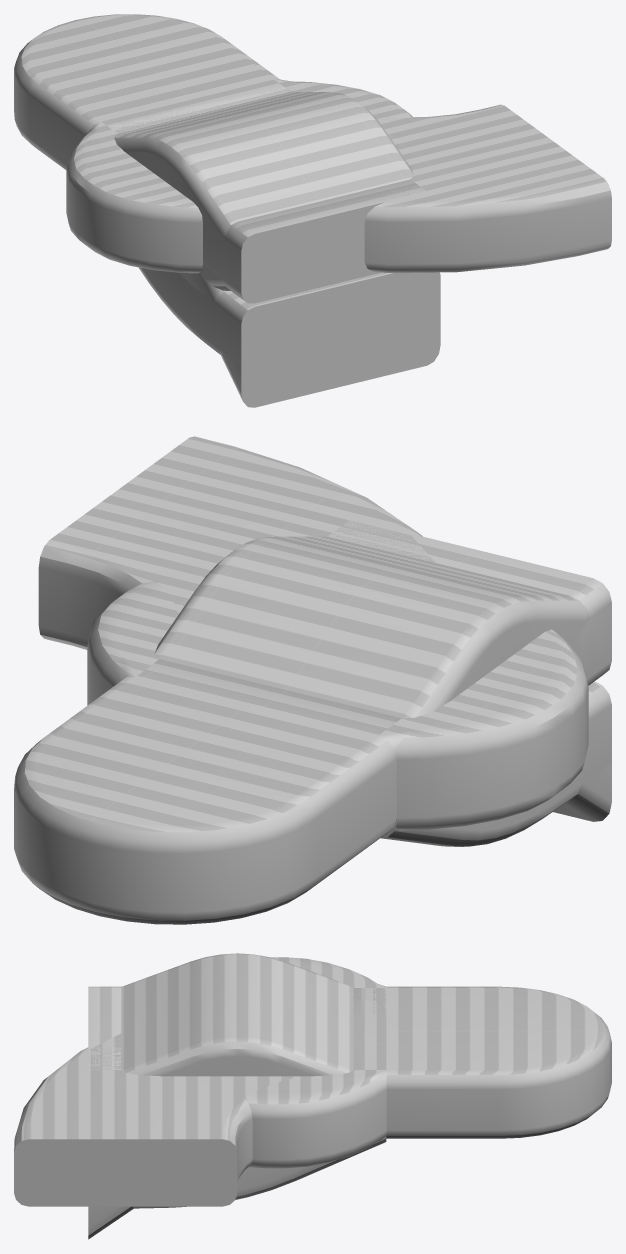
Rendered from Floor_2x3_BothSofter_thick.fbx.
3 renders of one model, top to bottom at view 1: azimuth 30°, elevation 25°; view 2: azimuth 150°, elevation 25°; view 3: azimuth 270°, elevation 25°, orthographic. The views are drawn at different scales.
Visible parts, largest first — view 1: Floor_2x3_BSr_T_rotate, Floor_2x3_BSr_T_hill, Floor_2x3_BSr_T_cap, Floor_2x3_BSr_T_circle, Floor_2x3_BSr_T_deep2, Floor_2x3_BSr_T_ramp1, Floor_2x3_BSr_T_ramp2, Floor_2x3_BSr_T_deep1; view 2: Floor_2x3_BSr_T_cap, Floor_2x3_BSr_T_hill, Floor_2x3_BSr_T_rotate, Floor_2x3_BSr_T_circle, Floor_2x3_BSr_T_deep2, Floor_2x3_BSr_T_ramp2, Floor_2x3_BSr_T_ramp1; view 3: Floor_2x3_BSr_T_rotate, Floor_2x3_BSr_T_cap, Floor_2x3_BSr_T_hill, Floor_2x3_BSr_T_circle, Floor_2x3_BSr_T_deep2, Floor_2x3_BSr_T_ramp2, Floor_2x3_BSr_T_ramp1.
Part boxes in pixels (bbox=[...]): Floor_2x3_BSr_T_rotate: bbox=[101, 79, 611, 272]; Floor_2x3_BSr_T_hill: bbox=[114, 91, 414, 303]; Floor_2x3_BSr_T_cap: bbox=[14, 14, 279, 169]; Floor_2x3_BSr_T_circle: bbox=[66, 79, 412, 273]; Floor_2x3_BSr_T_deep2: bbox=[102, 83, 426, 303]; Floor_2x3_BSr_T_ramp1: bbox=[184, 272, 440, 407]; Floor_2x3_BSr_T_ramp2: bbox=[138, 267, 440, 365]; Floor_2x3_BSr_T_deep1: bbox=[178, 228, 374, 301]; Floor_2x3_BSr_T_cap: bbox=[14, 676, 396, 924]; Floor_2x3_BSr_T_hill: bbox=[154, 536, 611, 718]; Floor_2x3_BSr_T_rotate: bbox=[38, 436, 435, 663]; Floor_2x3_BSr_T_circle: bbox=[87, 581, 588, 830]; Floor_2x3_BSr_T_deep2: bbox=[136, 519, 611, 735]; Floor_2x3_BSr_T_ramp2: bbox=[380, 681, 611, 846]; Floor_2x3_BSr_T_ramp1: bbox=[553, 763, 611, 821]; Floor_2x3_BSr_T_rotate: bbox=[14, 988, 386, 1206]; Floor_2x3_BSr_T_cap: bbox=[386, 986, 611, 1138]; Floor_2x3_BSr_T_hill: bbox=[121, 953, 353, 1076]; Floor_2x3_BSr_T_circle: bbox=[204, 957, 386, 1168]; Floor_2x3_BSr_T_deep2: bbox=[88, 986, 386, 1069]; Floor_2x3_BSr_T_ramp2: bbox=[133, 1136, 386, 1208]; Floor_2x3_BSr_T_ramp1: bbox=[88, 1206, 133, 1239].
Size of the model in its own units: 594 by 299 by 803.
